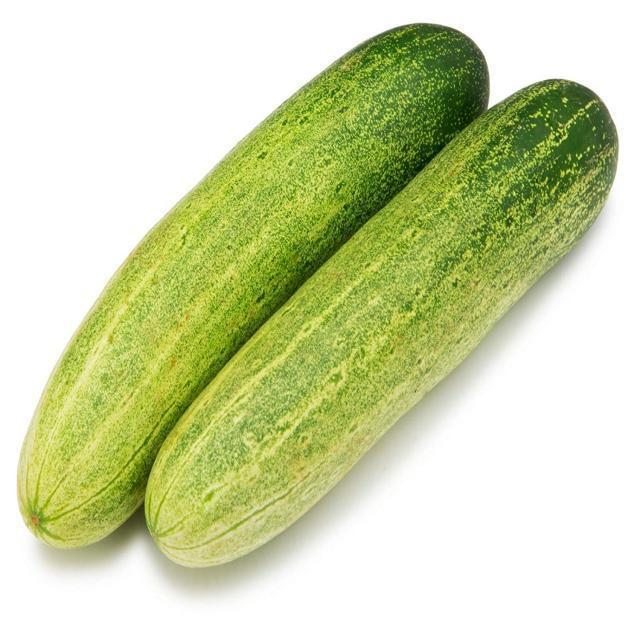Cucumber: (16, 27, 620, 570)
